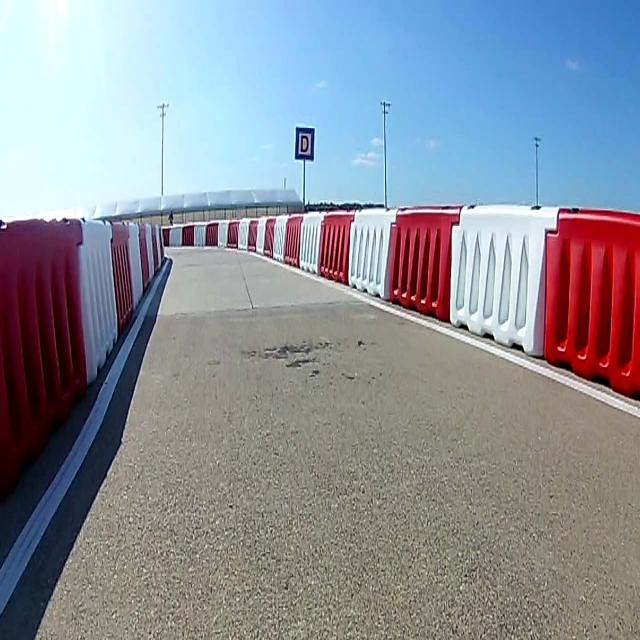durak: (294, 126, 314, 161)
